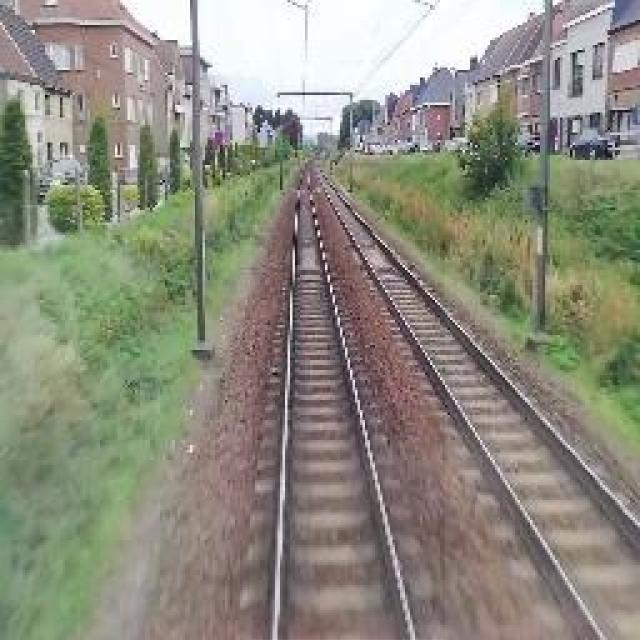rail: (253, 165, 446, 640)
